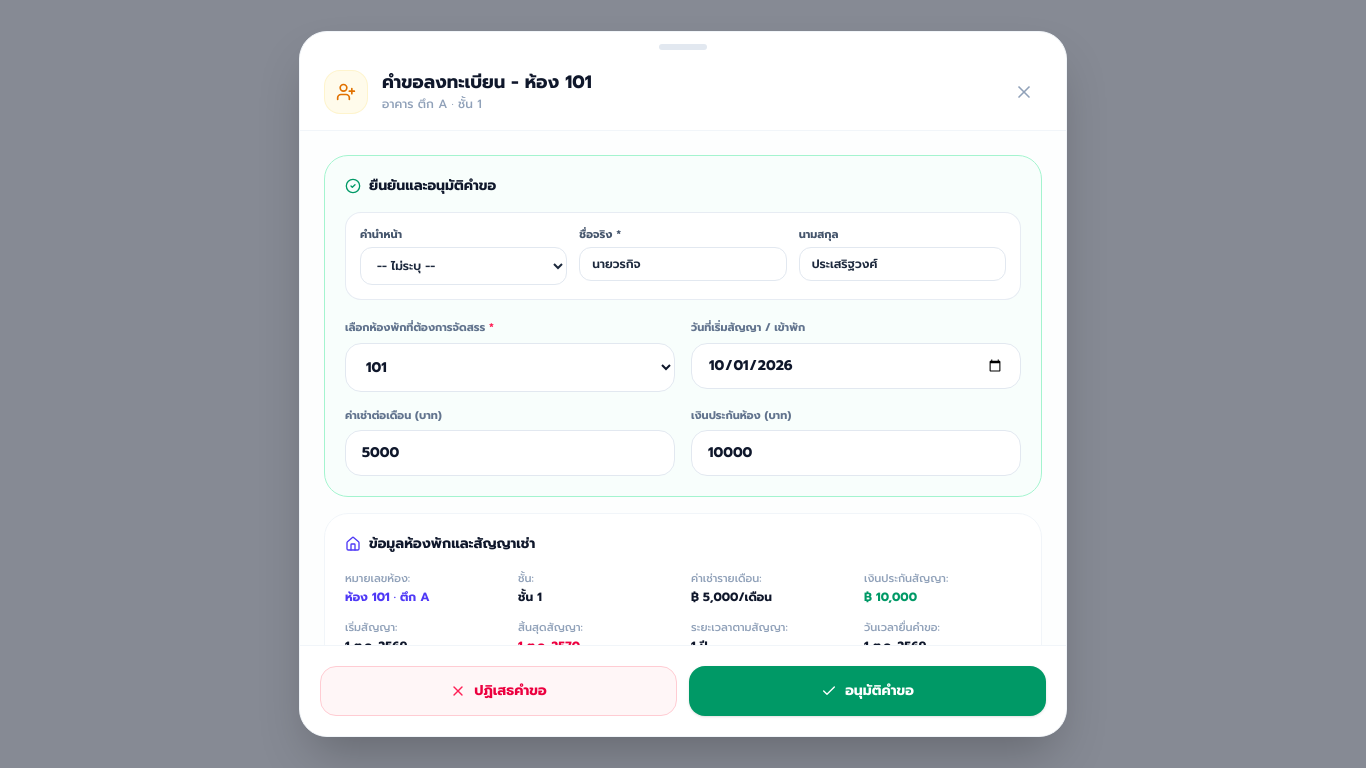
it: Tenant Approval & Reject Flow Suite (Dashboard & Tenants Parity) › CRIT-APPROVAL-MODAL-REJECT-FLOW-03: Clicking [ปฏิเสธคำขอ] in modal opens reject sheet, and cancelling returns to approval modal
Click [ปฏิเสธคำขอ]
Click the button with test id "modal-approval-reject-btn" at x=498, y=691, box [320,666,677,716]
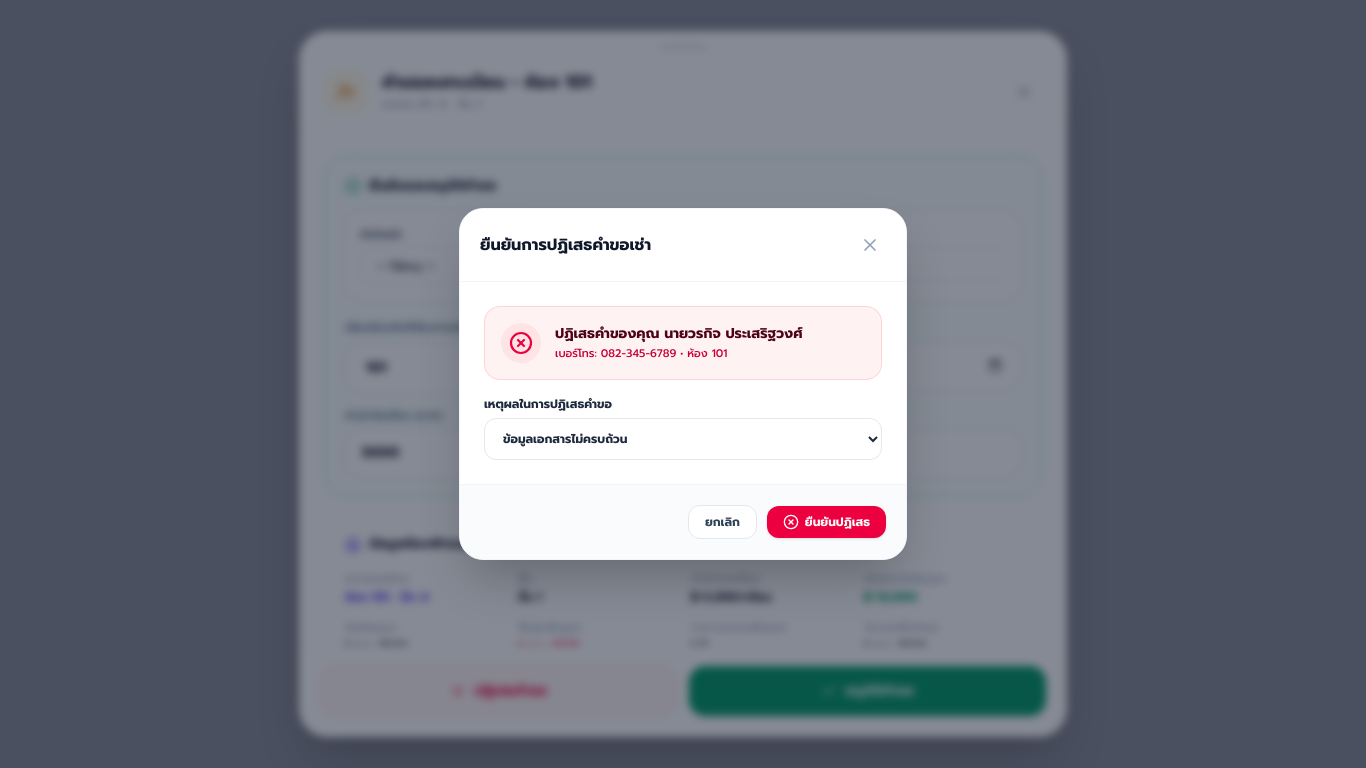
Expected: the heading "ยืนยันการปฏิเสธคำขอเช่า" is shown, [480,233,651,257]
Click the button with test id "reject-sheet-cancel-btn" at x=722, y=522, box [688,505,757,539]
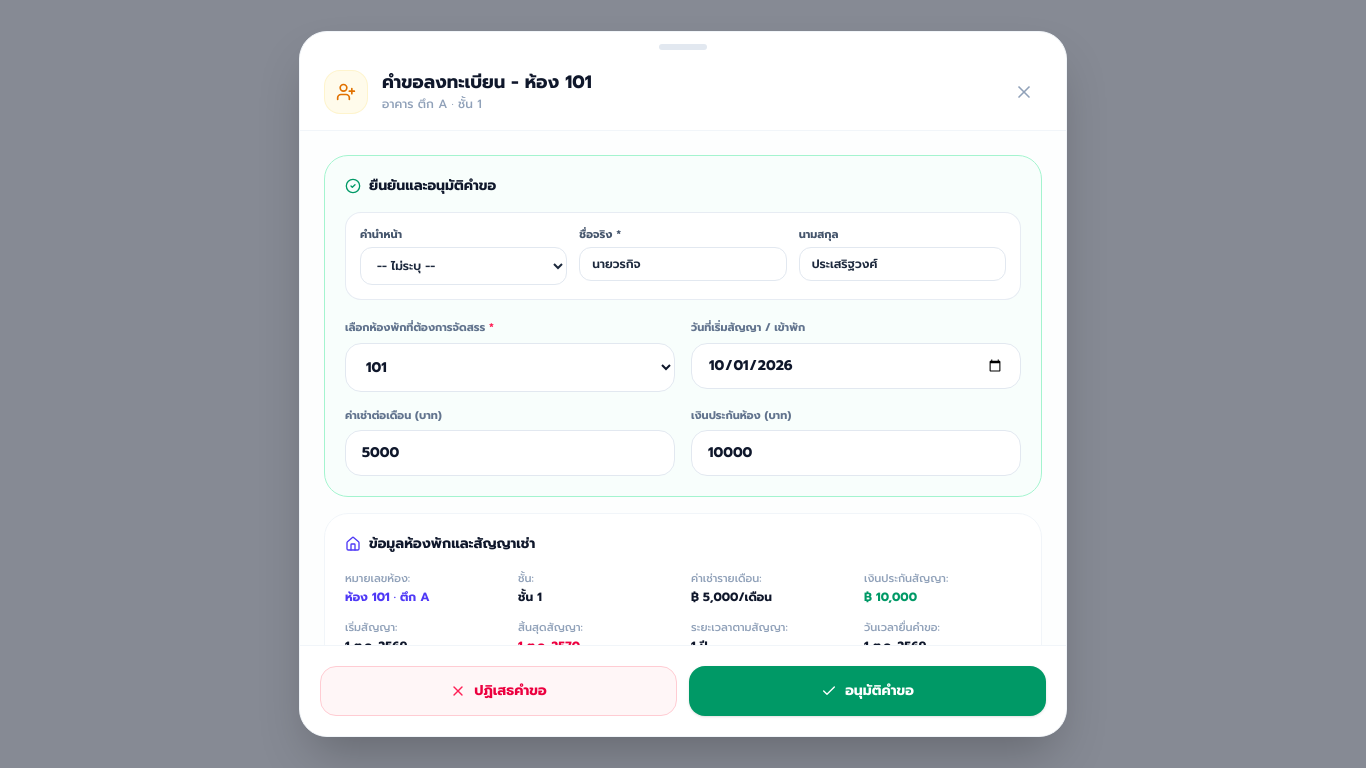
Expected: the heading "ยืนยันการปฏิเสธคำขอเช่า" is gone
